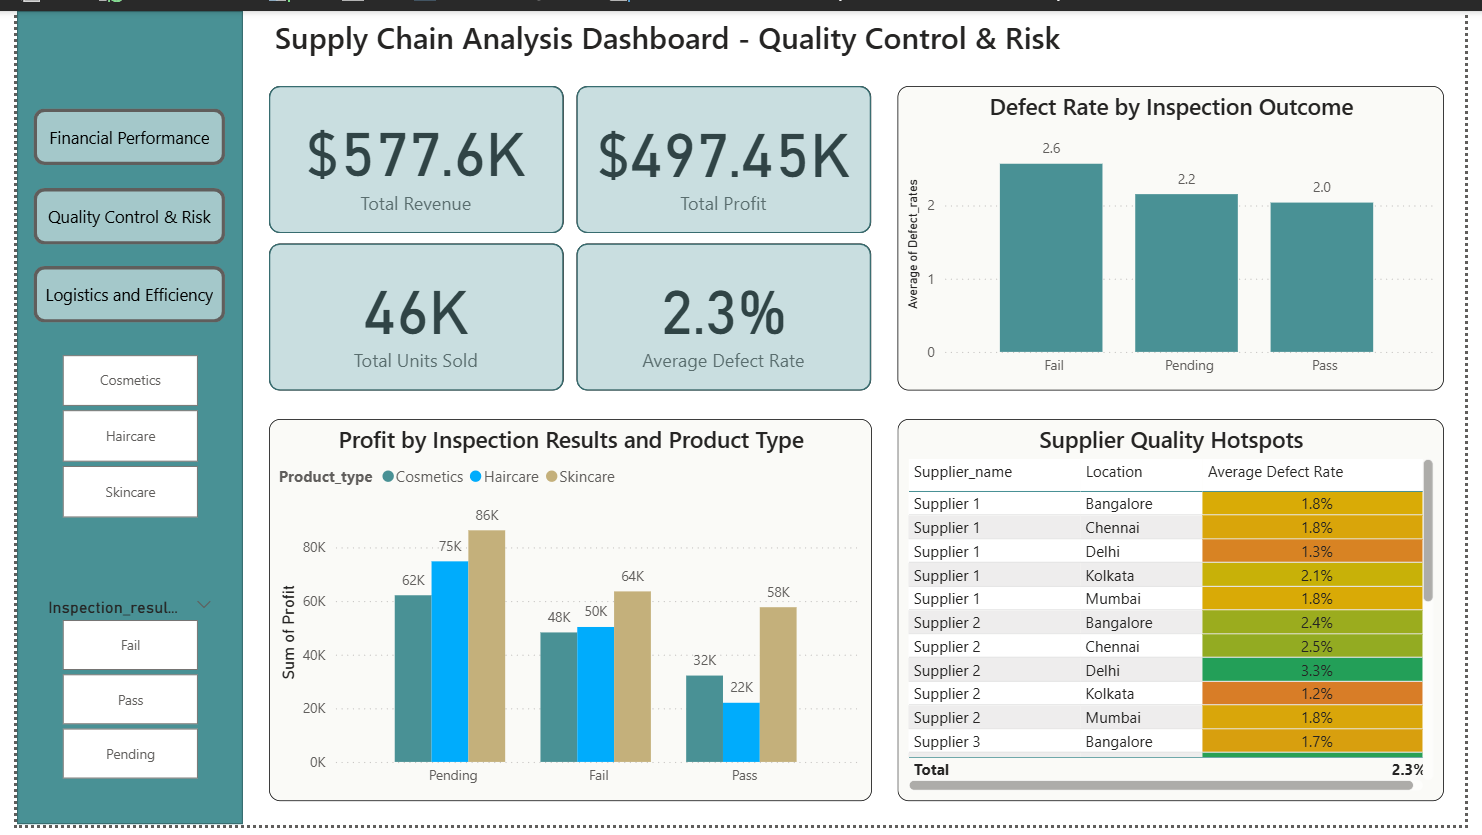

Layout of this report page (visuals, bound fields, positions):
{"tool":"powerbi","page":{"name":"Quality Control & Risk","canvas":[1280,720],"ordinal":1},"visuals":[{"type":"shape","box":[0,0,199.9,719.2],"z":0},{"type":"card","fields":{"Values":["cleaned_supply_chain_data.Total Revenue"]},"box":[222.6,66.6,260.4,130],"z":1},{"type":"card","fields":{"Values":["cleaned_supply_chain_data.Average Defect Rate"]},"box":[495.1,205.9,260.4,130.2],"z":2},{"type":"card","fields":{"Values":["cleaned_supply_chain_data.Total Profit"]},"box":[495.1,66.6,260.4,130.2],"z":3},{"type":"card","fields":{"Values":["cleaned_supply_chain_data.Total Units Sold"]},"box":[222.6,205.9,260.4,130.2],"z":4},{"type":"textbox","box":[222.6,0,1038.7,50],"z":5},{"type":"clusteredColumnChart","title":"Profit by Inspection Results and Product Type","fields":{"Category":["cleaned_supply_chain_data.Inspection_results"],"Y":["Sum(cleaned_supply_chain_data.Profit)"],"Series":["cleaned_supply_chain_data.Product_type"]},"box":[222.6,360.4,533,337.7],"z":6},{"type":"clusteredColumnChart","title":"Defect Rate by Inspection Outcome","fields":{"Category":["cleaned_supply_chain_data.Inspection_results"],"Y":["Avg(cleaned_supply_chain_data.Defect_rates)"]},"box":[778.3,66.6,483,269.5],"z":7},{"type":"tableEx","title":"Supplier Quality Hotspots","fields":{"Values":["cleaned_supply_chain_data.Supplier_name","cleaned_supply_chain_data.Location","cleaned_supply_chain_data.Average Defect Rate"]},"box":[778.3,360.4,483,337.7],"z":8},{"type":"actionButton","box":[15.1,86.3,169.6,50],"z":9},{"type":"actionButton","box":[15.1,156,169.6,50],"z":10},{"type":"actionButton","box":[15.1,225.6,169.6,50],"z":11},{"type":"slicer","fields":{"Values":["cleaned_supply_chain_data.Product_type"]},"box":[15.1,296.8,169.6,157.5],"z":12},{"type":"slicer","fields":{"Values":["cleaned_supply_chain_data.Inspection_results"]},"box":[15.1,513.3,169.6,172.6],"z":13},{"type":"shape","box":[222.6,66.6,260.4,130.2],"z":14},{"type":"shape","box":[495.1,66.6,260.4,130.2],"z":15},{"type":"shape","box":[222.6,205.9,260.4,130.2],"z":16},{"type":"shape","box":[495.1,205.9,260.4,130.2],"z":17}]}

Visuals, with their boxes on the page's 1280x720 design canvas (x1, y1, x2, y2). These are canvas units, not pixel positions in the 1482x835 screenshot, which may show the page scaled, cropped or inside an application window:
shape: {"x1": 0, "y1": 0, "x2": 200, "y2": 719}
card - cleaned_supply_chain_data.Total Revenue: {"x1": 223, "y1": 67, "x2": 483, "y2": 197}
card - cleaned_supply_chain_data.Average Defect Rate: {"x1": 495, "y1": 206, "x2": 756, "y2": 336}
card - cleaned_supply_chain_data.Total Profit: {"x1": 495, "y1": 67, "x2": 756, "y2": 197}
card - cleaned_supply_chain_data.Total Units Sold: {"x1": 223, "y1": 206, "x2": 483, "y2": 336}
textbox: {"x1": 223, "y1": 0, "x2": 1261, "y2": 50}
"Profit by Inspection Results and Product Type" clusteredColumnChart: {"x1": 223, "y1": 360, "x2": 756, "y2": 698}
"Defect Rate by Inspection Outcome" clusteredColumnChart: {"x1": 778, "y1": 67, "x2": 1261, "y2": 336}
"Supplier Quality Hotspots" tableEx: {"x1": 778, "y1": 360, "x2": 1261, "y2": 698}
actionButton: {"x1": 15, "y1": 86, "x2": 185, "y2": 136}
actionButton: {"x1": 15, "y1": 156, "x2": 185, "y2": 206}
actionButton: {"x1": 15, "y1": 226, "x2": 185, "y2": 276}
slicer - cleaned_supply_chain_data.Product_type: {"x1": 15, "y1": 297, "x2": 185, "y2": 454}
slicer - cleaned_supply_chain_data.Inspection_results: {"x1": 15, "y1": 513, "x2": 185, "y2": 686}
shape: {"x1": 223, "y1": 67, "x2": 483, "y2": 197}
shape: {"x1": 495, "y1": 67, "x2": 756, "y2": 197}
shape: {"x1": 223, "y1": 206, "x2": 483, "y2": 336}
shape: {"x1": 495, "y1": 206, "x2": 756, "y2": 336}
